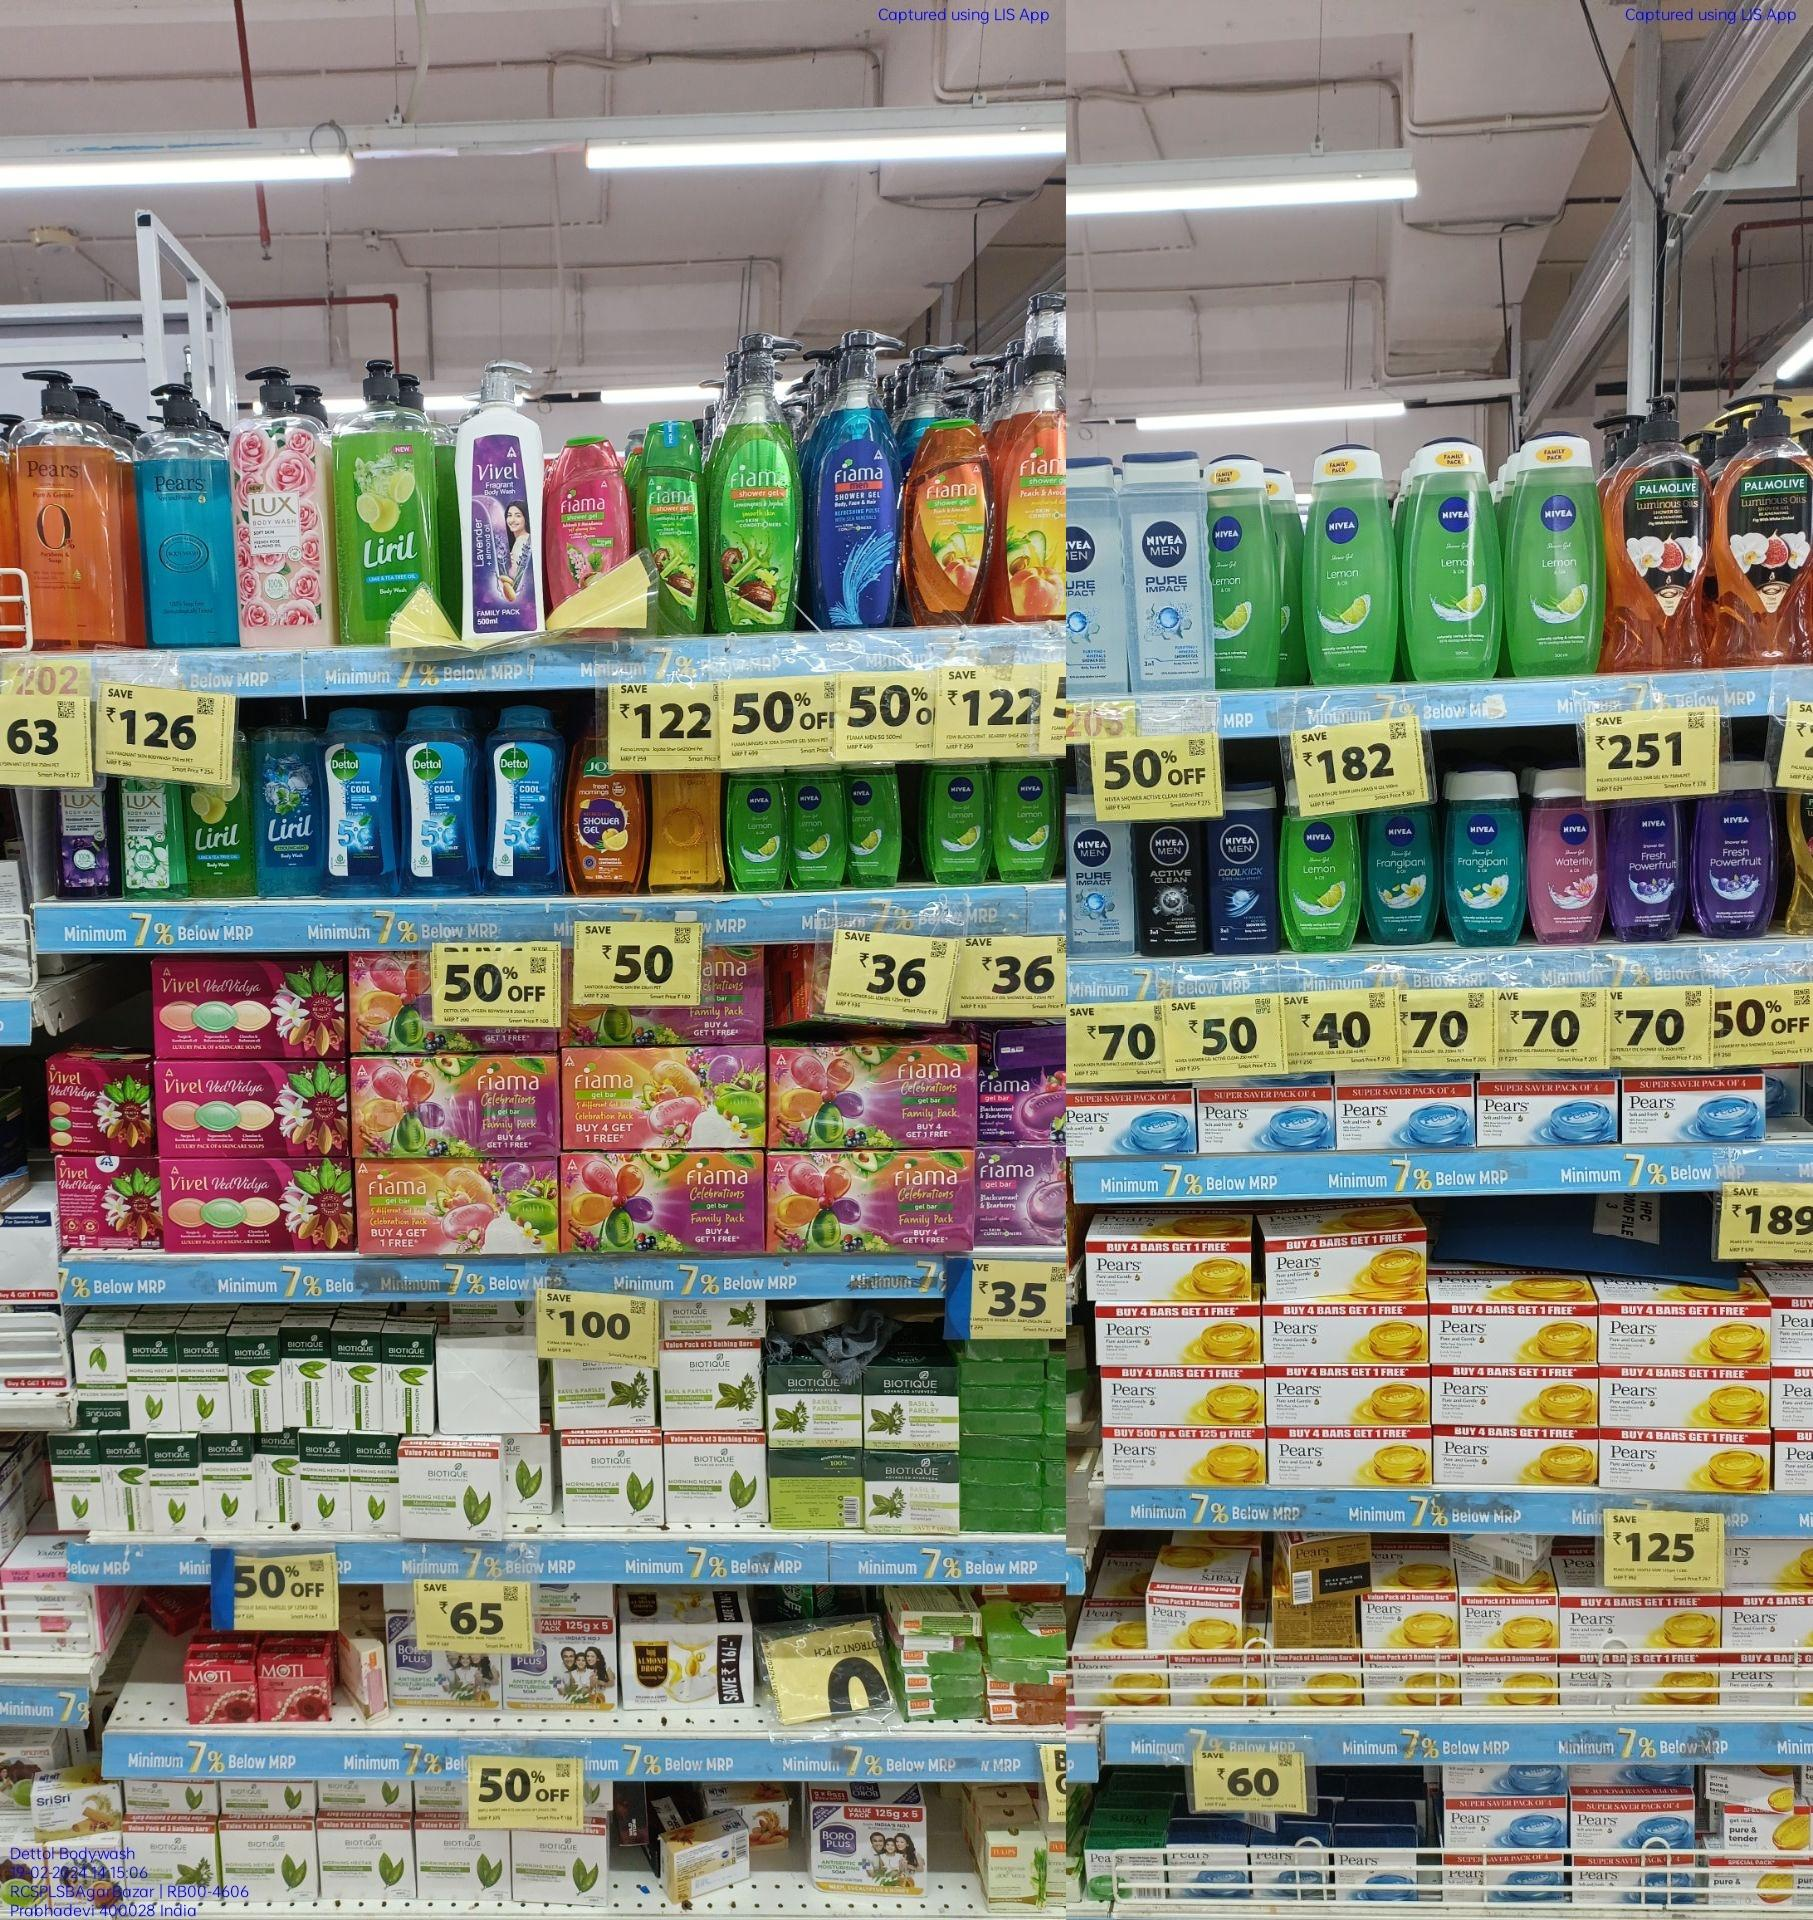Dettol_Bodywash_Cool: (402, 704, 491, 896), (491, 704, 566, 898), (329, 702, 400, 894)
Fiama_Shower_Gel_Patchouli_and_Macadamia_250ML: (545, 436, 627, 634)
Fiama_Shower_Gel_Peach_and_Avocado_250ML: (910, 414, 997, 620)
Liril_Cooling_Mint_Body_Wash_250ML: (257, 700, 315, 894)
Nivea_Shower_Gel_Frangipani_and_Oil_250ML: (1442, 765, 1523, 947)
Nivea_Shower_Gel_Fresh_Powerfruit_250ML: (1692, 758, 1777, 937), (1609, 779, 1683, 940)
Nivea_Shower_Gel_Lemon_and_Oil_250ML: (1505, 423, 1602, 676), (1402, 434, 1501, 683), (1305, 443, 1401, 680), (1210, 453, 1285, 688), (1285, 775, 1360, 946), (995, 762, 1063, 881), (924, 763, 992, 881), (726, 763, 786, 888), (787, 770, 849, 884), (850, 763, 903, 888)
Nivea_Shower_Gel_Waterlily_and_Oil_250ML: (1527, 765, 1607, 942)
